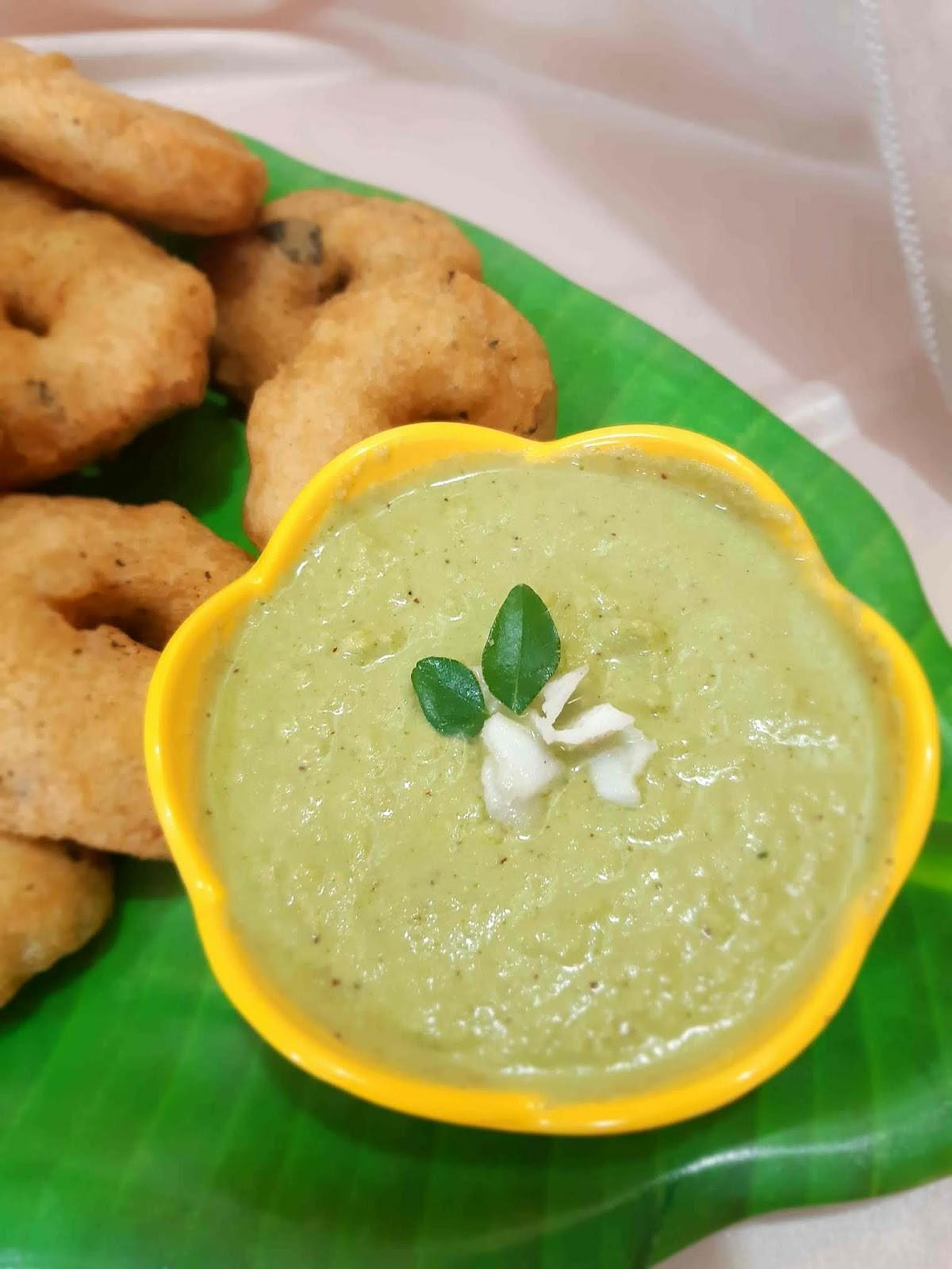CoconutChutney: (212, 458, 882, 1094)
